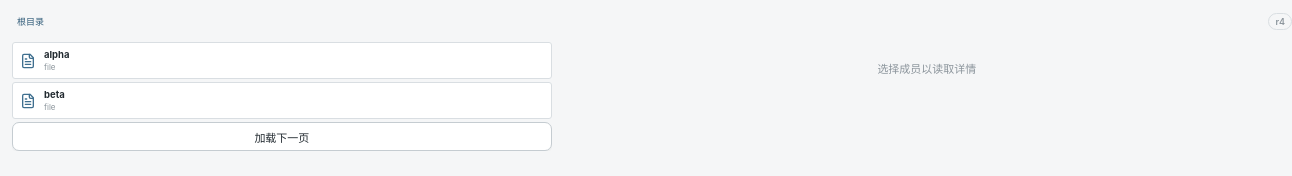
it: Collection renderer › uses exact list payloads, opaque cursors and bounded pagination
expect the text "alpha" is shown: met, box top-left (44, 49), bottom-right (70, 60)
Click the button "加载下一页".
click(282, 136)  # box top-left (12, 122), bottom-right (552, 151)
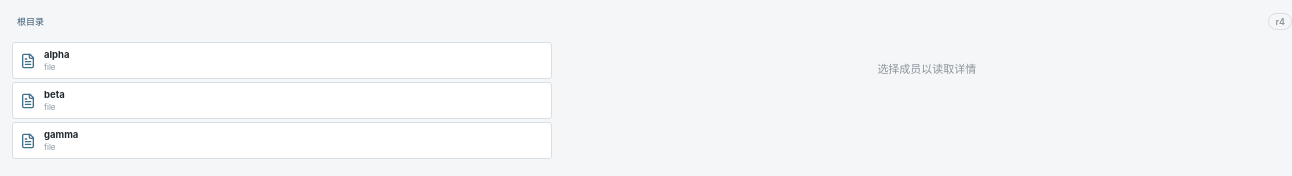
expect the text "gamma" is shown: met, box top-left (44, 129), bottom-right (78, 140)
